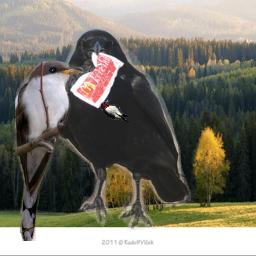Crow: (54, 28, 191, 230)
Cuckoo: (13, 59, 83, 241)
Woodpecker: (99, 98, 131, 122)
